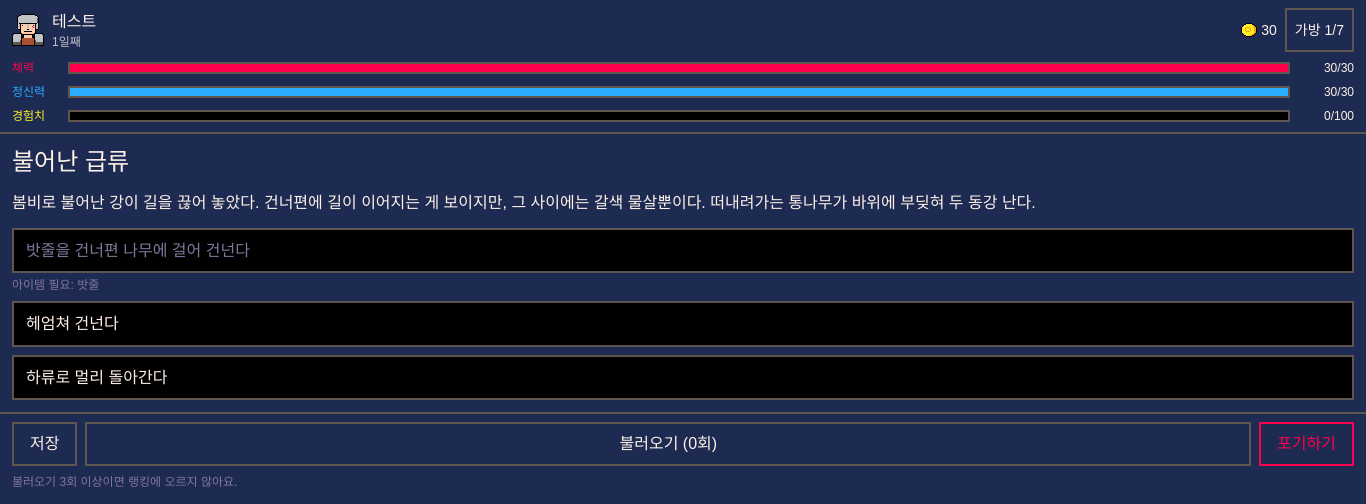
EventView › an available choice resolves through the store
The image size is (1366, 504).
Click the button "하류로 멀리 돌아간다" at (97, 377), box [12,355,1354,400]
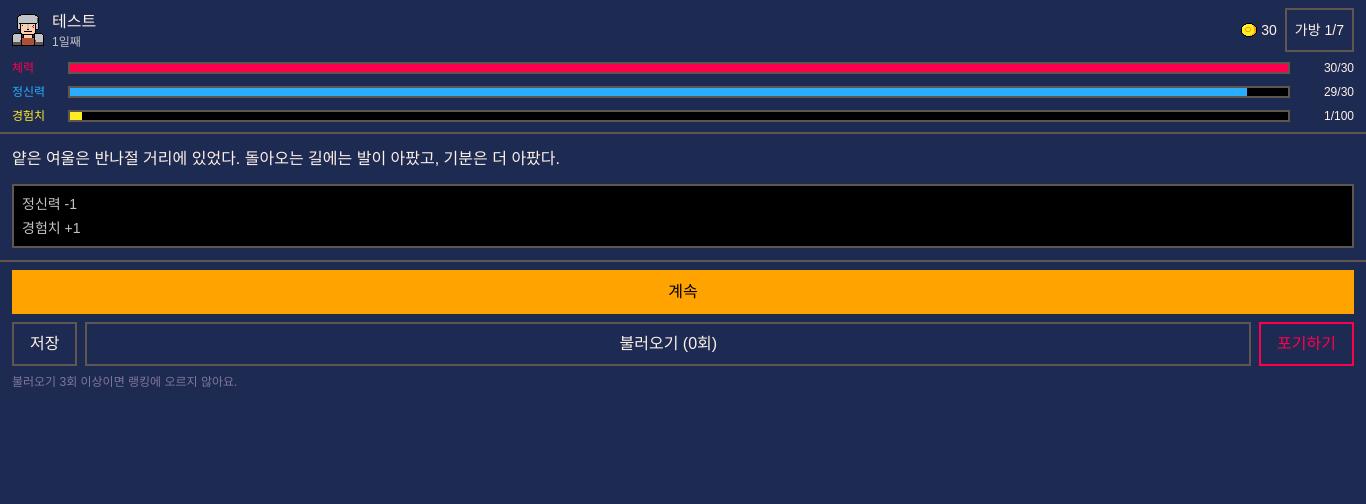
Check: the button "계속" is shown, box [12,270,1354,314]
